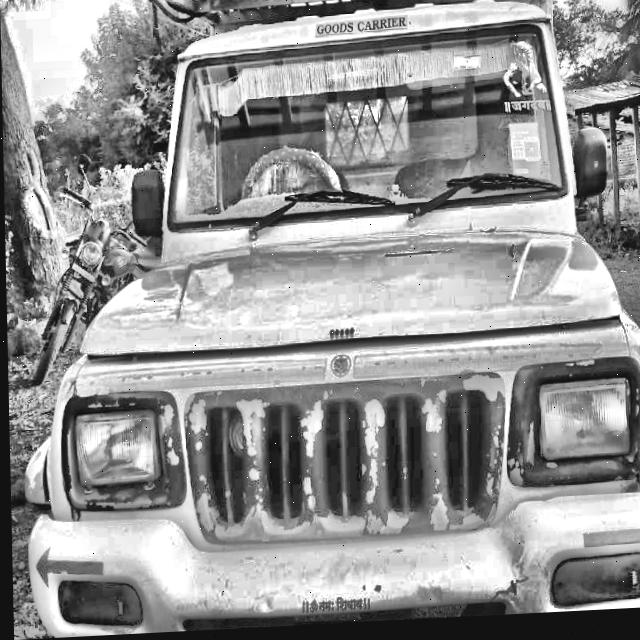light_vehicle: (7, 0, 640, 640)
